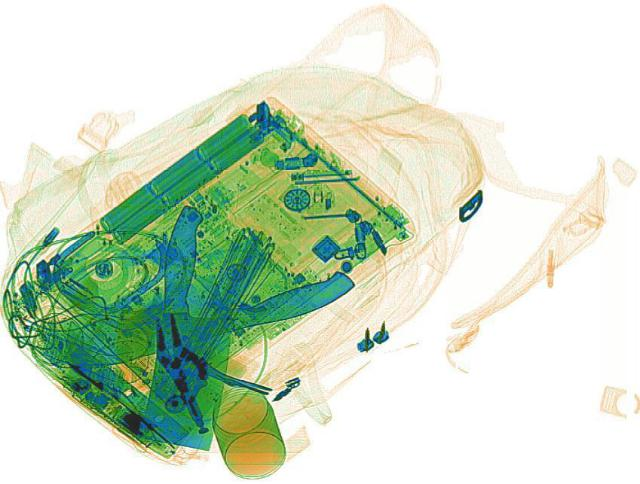Knife: (41, 235, 362, 377), (140, 200, 248, 447)
